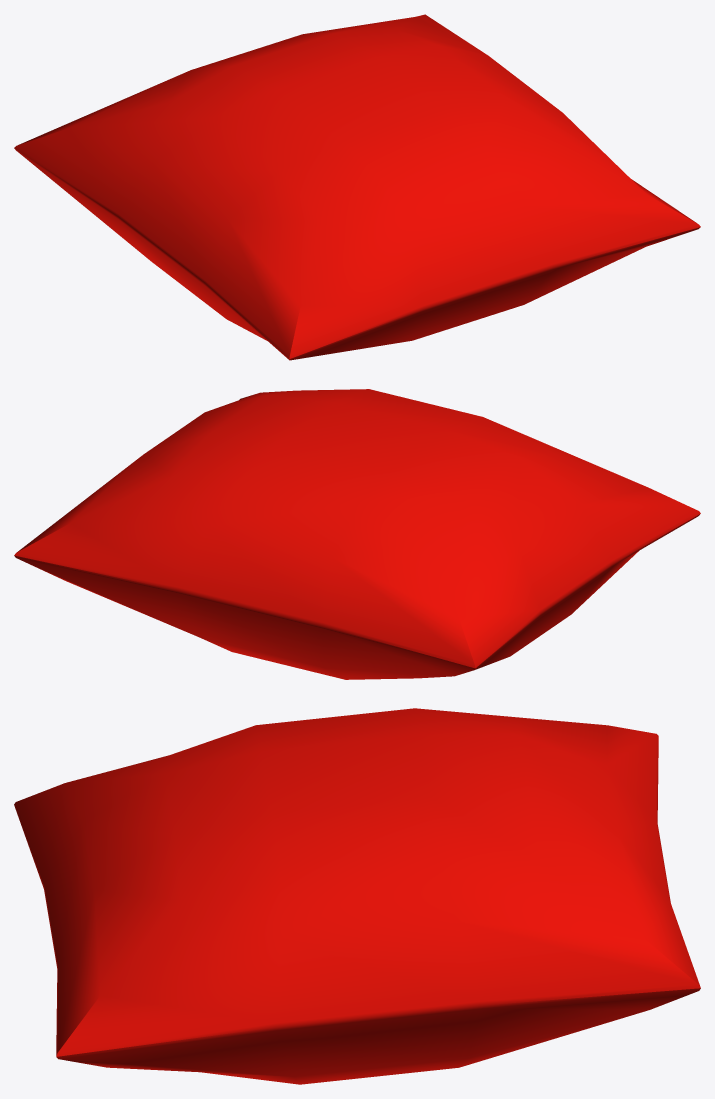
The model's file is Cornbag.fbx.
3 renders of one model, top to bottom at view 1: azimuth 30°, elevation 25°; view 2: azimuth 150°, elevation 25°; view 3: azimuth 270°, elevation 25°, orthographic. The views are drawn at different scales.
Parts seen in each view (by area): view 1: Cube.001; view 2: Cube.001; view 3: Cube.001.
Boxes of the visible parts, x1,y1,x2,y2 form: Cube.001: (14,14,700,360); Cube.001: (14,389,700,679); Cube.001: (14,708,700,1084).
Bounding box in the file's own units: 10.56 × 4.36 × 10.5.
